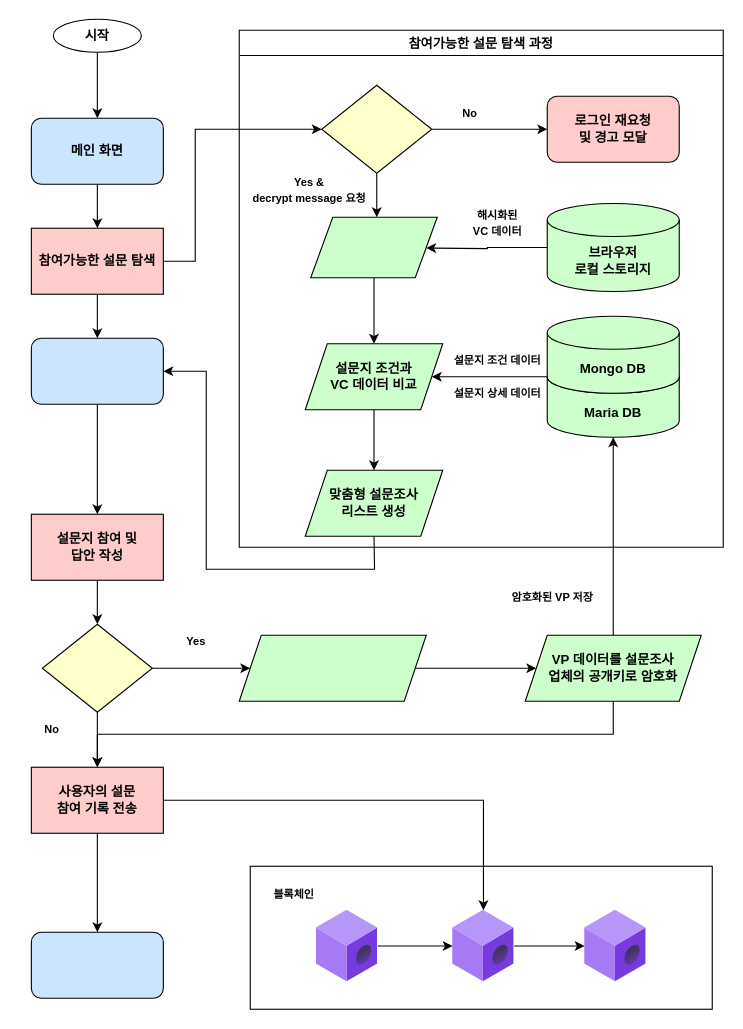
The diagram is 743 pixels wide and 1029 high, and some of its shapes have lost their labels. The shapes that lost their labels are listed below. From the top down, each one's centre as x and y in pixels, then its label:
point (376, 128): 메타마스크 로그인
point (373, 247): VC 데이터 복호화
point (96, 370): 조사참여 페이지
point (96, 667): VP 추가공개 여부
point (332, 667): 설문지 조건에 맞는 VP 데이터 생성
point (96, 964): 리워드 수여 및 리워드 페이지
